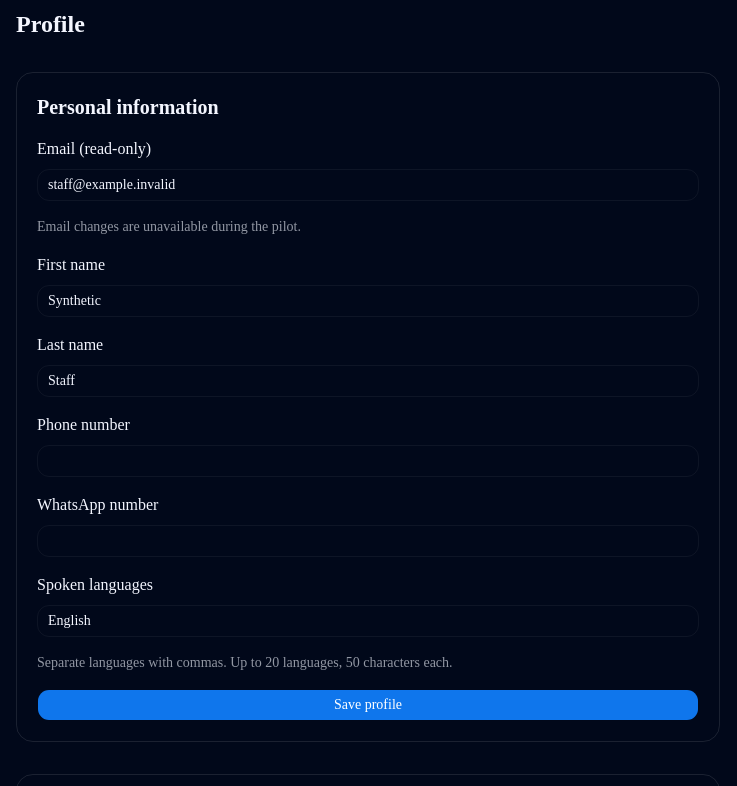
Scenario: shows save failure
Click the button "Save profile": point(368, 705) [37, 689, 699, 721]
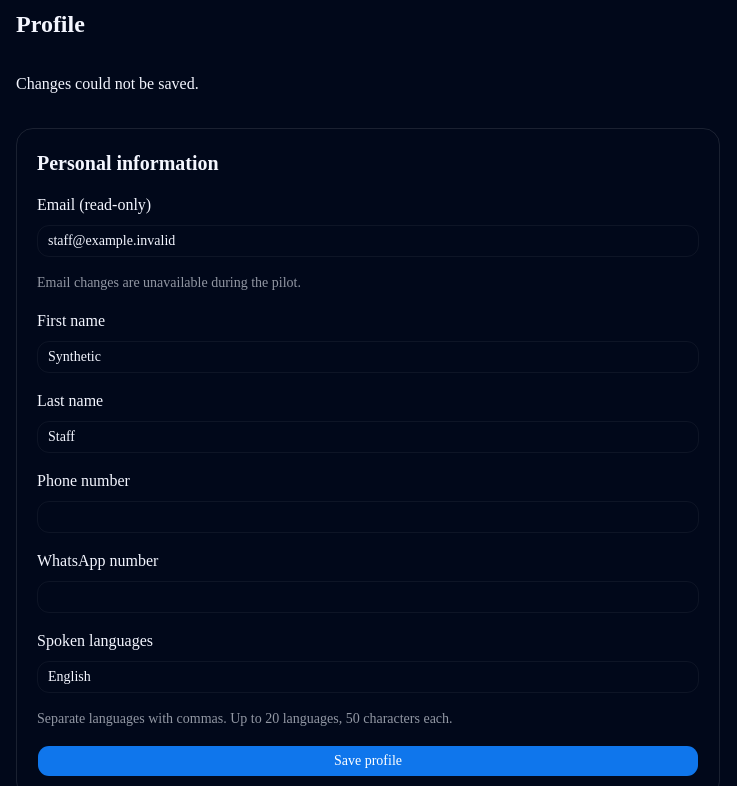
Check: the message shows "Changes could not be saved", box [16, 75, 199, 92]
